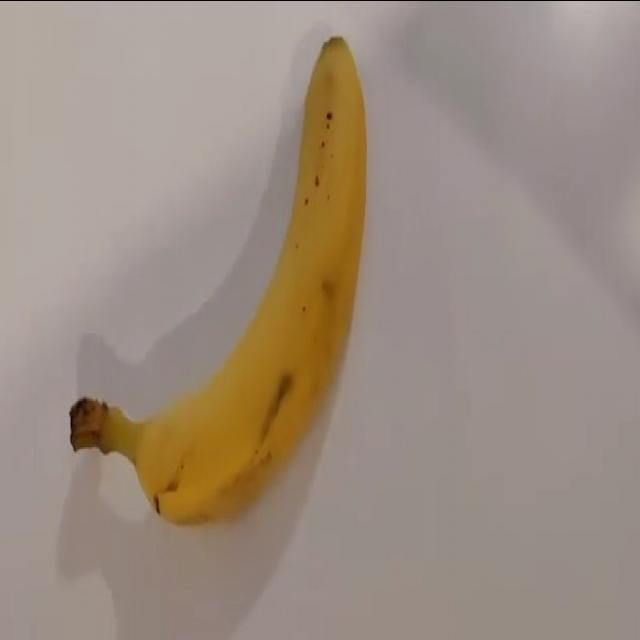Banana: (68, 34, 368, 526)
